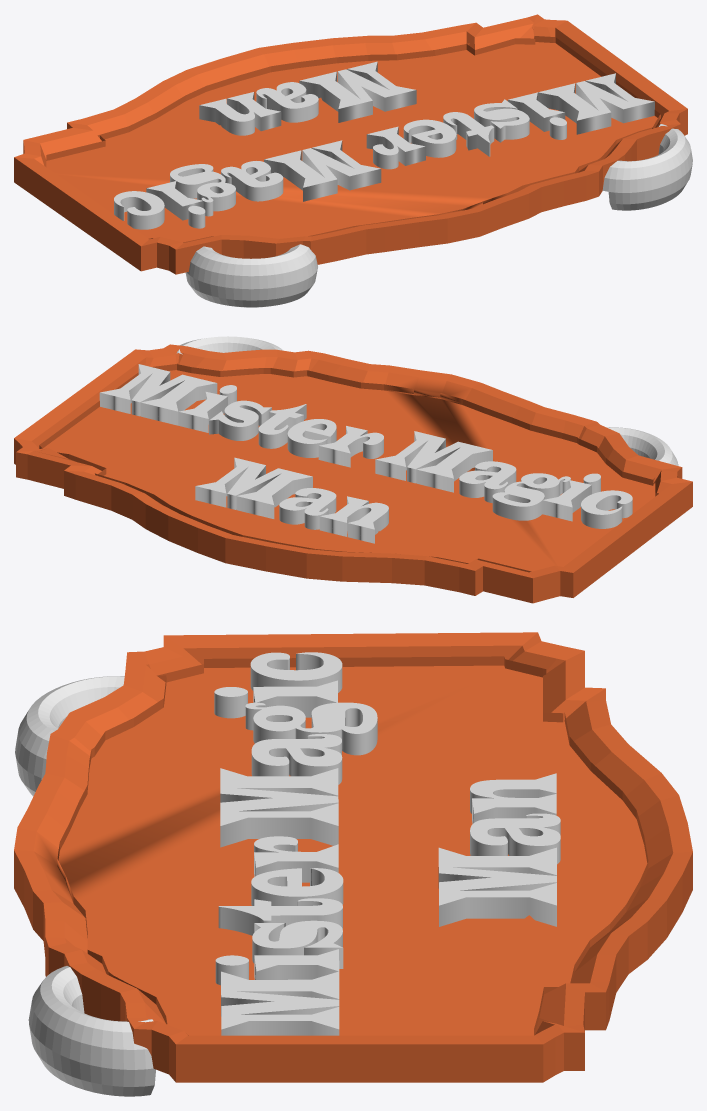
The model's file is poop.fbx.
The picture shows the model from 3 angles, top to bottom: view 1: azimuth 30°, elevation 25°; view 2: azimuth 150°, elevation 25°; view 3: azimuth 270°, elevation 25°; orthographic projection. The views are drawn at different scales.
Visible parts, largest first — view 1: Plane.002, Plane, Tajjda, Torus.003, Torus.001; view 2: Plane.002, Plane, Tajjda, Torus.003, Torus.001; view 3: Plane.002, Plane, Tajjda, Torus.001, Torus.003.
Part boxes in pixels (x1,y1,x2,y2): Plane.002: [46, 42, 657, 242]; Plane: [14, 14, 687, 274]; Tajjda: [114, 61, 654, 229]; Torus.003: [185, 244, 317, 307]; Torus.001: [602, 124, 692, 210]; Plane.002: [43, 370, 655, 571]; Plane: [14, 344, 692, 603]; Tajjda: [99, 364, 632, 543]; Torus.003: [607, 427, 678, 465]; Torus.001: [176, 336, 282, 354]; Plane.002: [58, 665, 647, 1035]; Plane: [14, 632, 692, 1082]; Tajjda: [214, 652, 560, 1035]; Torus.001: [28, 966, 155, 1096]; Torus.003: [15, 676, 124, 796].
Size of the model in its own units: 456 by 41.35 by 318.
